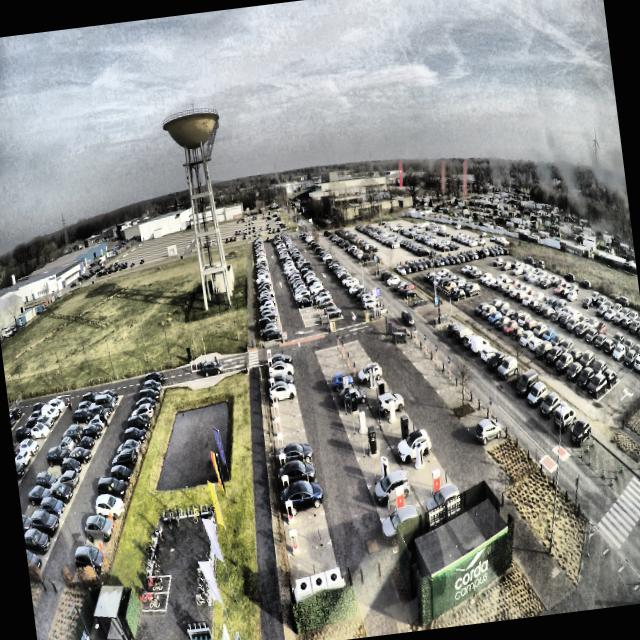cabinet: (295, 567, 342, 595)
car: (281, 481, 324, 518), (278, 459, 316, 491), (279, 441, 315, 469), (269, 381, 296, 399), (269, 361, 294, 378), (269, 372, 295, 387), (269, 353, 292, 367)
parking: (288, 541, 338, 589), (284, 511, 330, 554), (281, 486, 323, 523), (278, 466, 318, 496), (276, 446, 314, 475), (274, 430, 309, 455), (272, 415, 304, 438), (269, 386, 298, 407), (271, 401, 301, 421), (266, 362, 292, 378), (267, 372, 294, 387), (266, 354, 290, 369)
supercharger: (289, 529, 300, 554), (285, 500, 294, 523), (281, 475, 290, 492), (279, 453, 287, 471), (274, 418, 282, 435), (276, 435, 284, 450), (272, 404, 279, 416), (271, 390, 277, 402), (267, 357, 273, 368), (269, 379, 275, 389), (266, 348, 271, 359), (269, 367, 274, 377)
